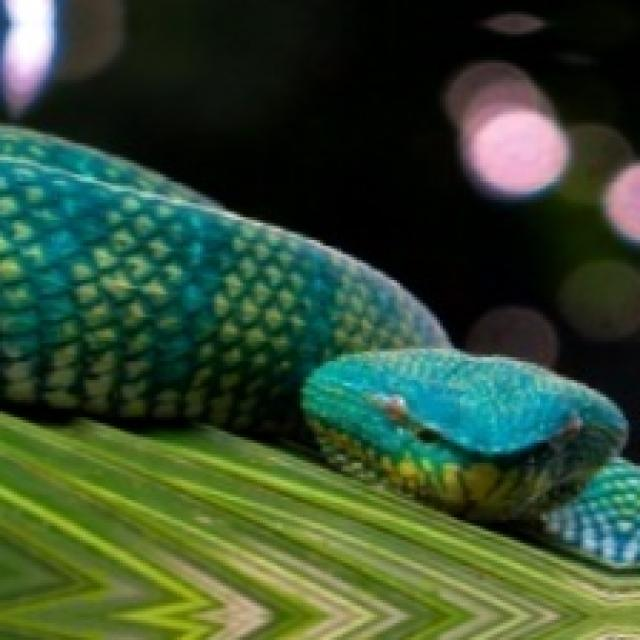north ph temple pitviper: (0, 127, 640, 564)
